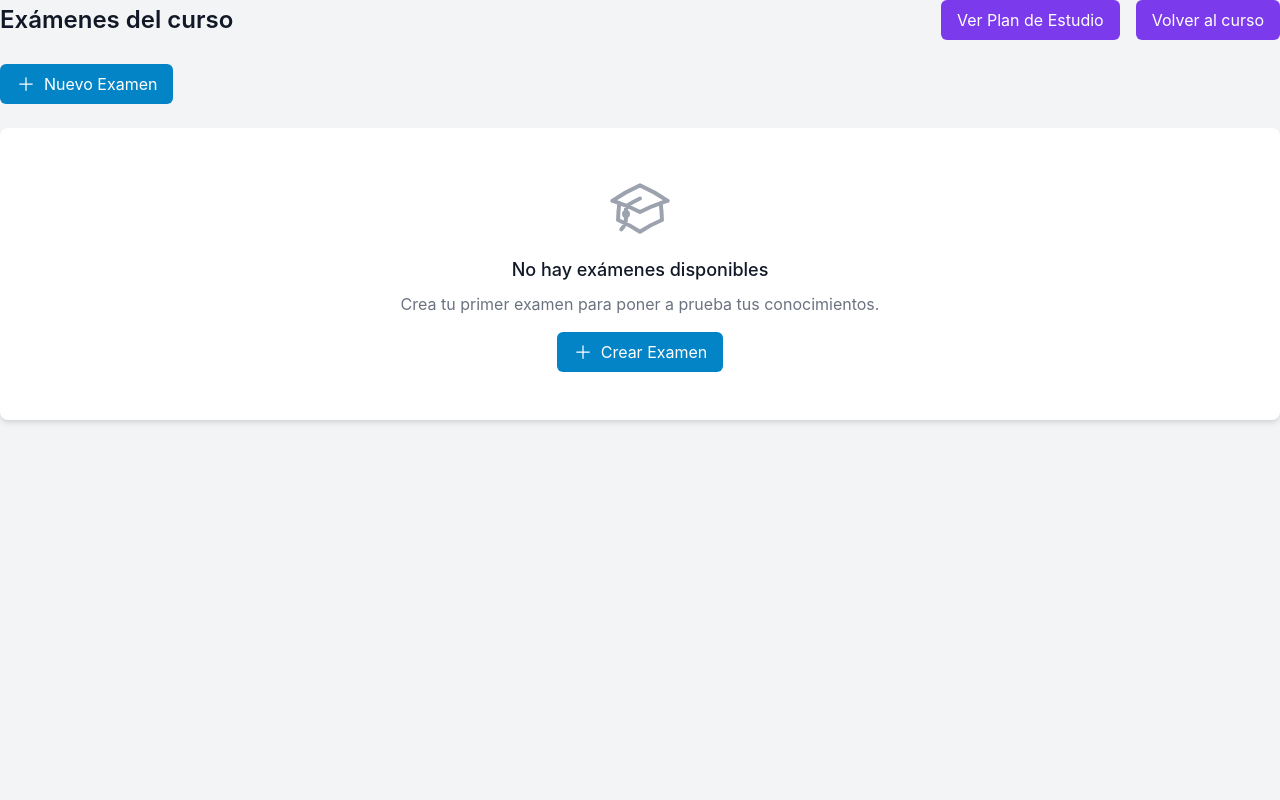
Test: ExamList Component › abre el modal al hacer clic en "Nuevo Examen"
Click the button "Nuevo Examen": (87,84) left=0, top=64, right=173, bottom=104
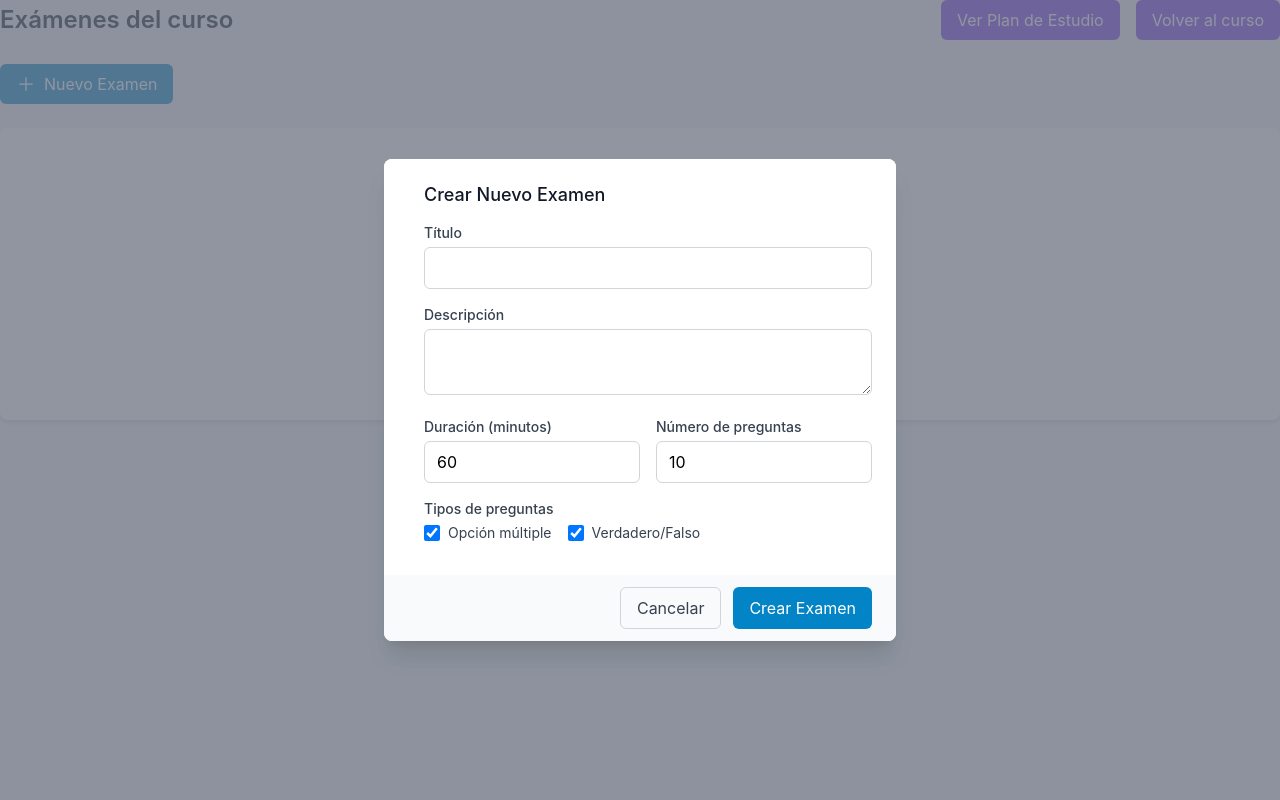
Expected: the heading "Crear Nuevo Examen" is shown, left=424, top=184, right=605, bottom=205
